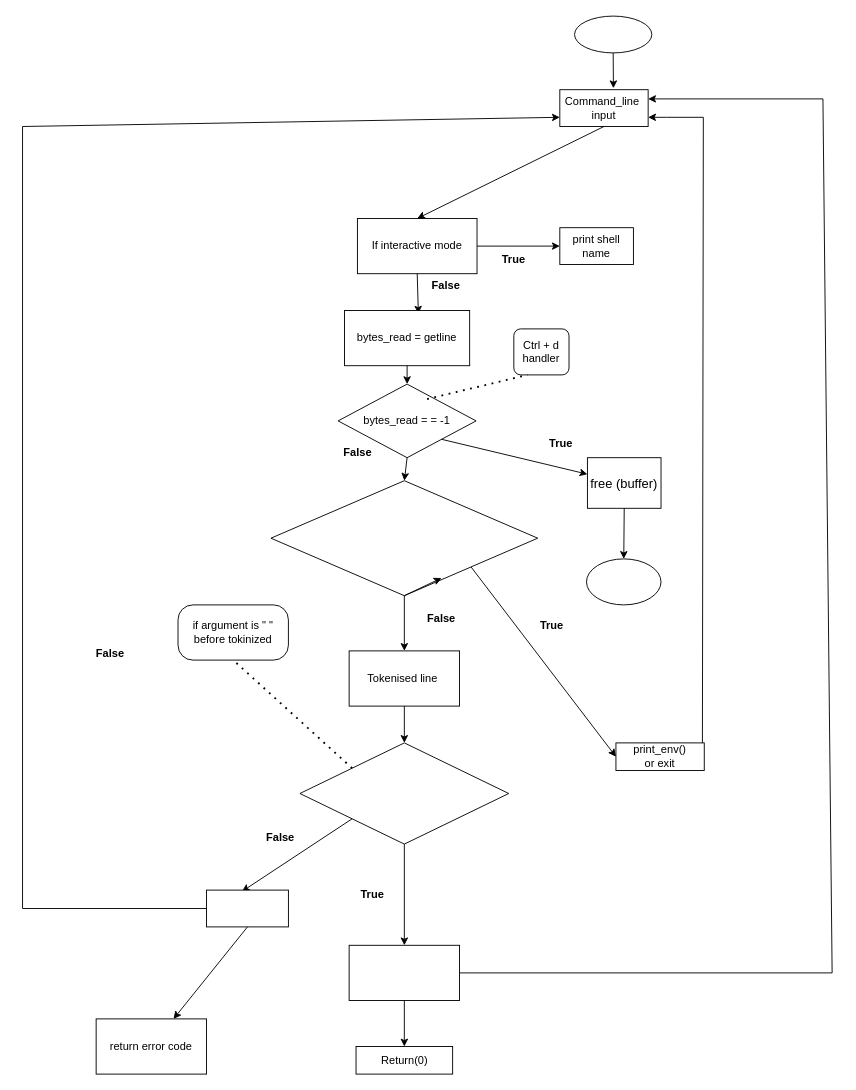
Some shapes in this 856 by 1090 pixel diagram are drawn without their labels. The shapes that lost their labels are listed below. From the top down, each one's box as (x1, y1, x2, y2) in pixels, then its label:
(574, 15, 652, 53): start
(270, 480, 538, 596): Run through struct bultins, compare command line with members : name of struct
(586, 558, 661, 605): exit(0)
(299, 742, 509, 844): compare token(0) to commands in PATH
(206, 889, 288, 927): error
(348, 944, 460, 1000): Execute command
